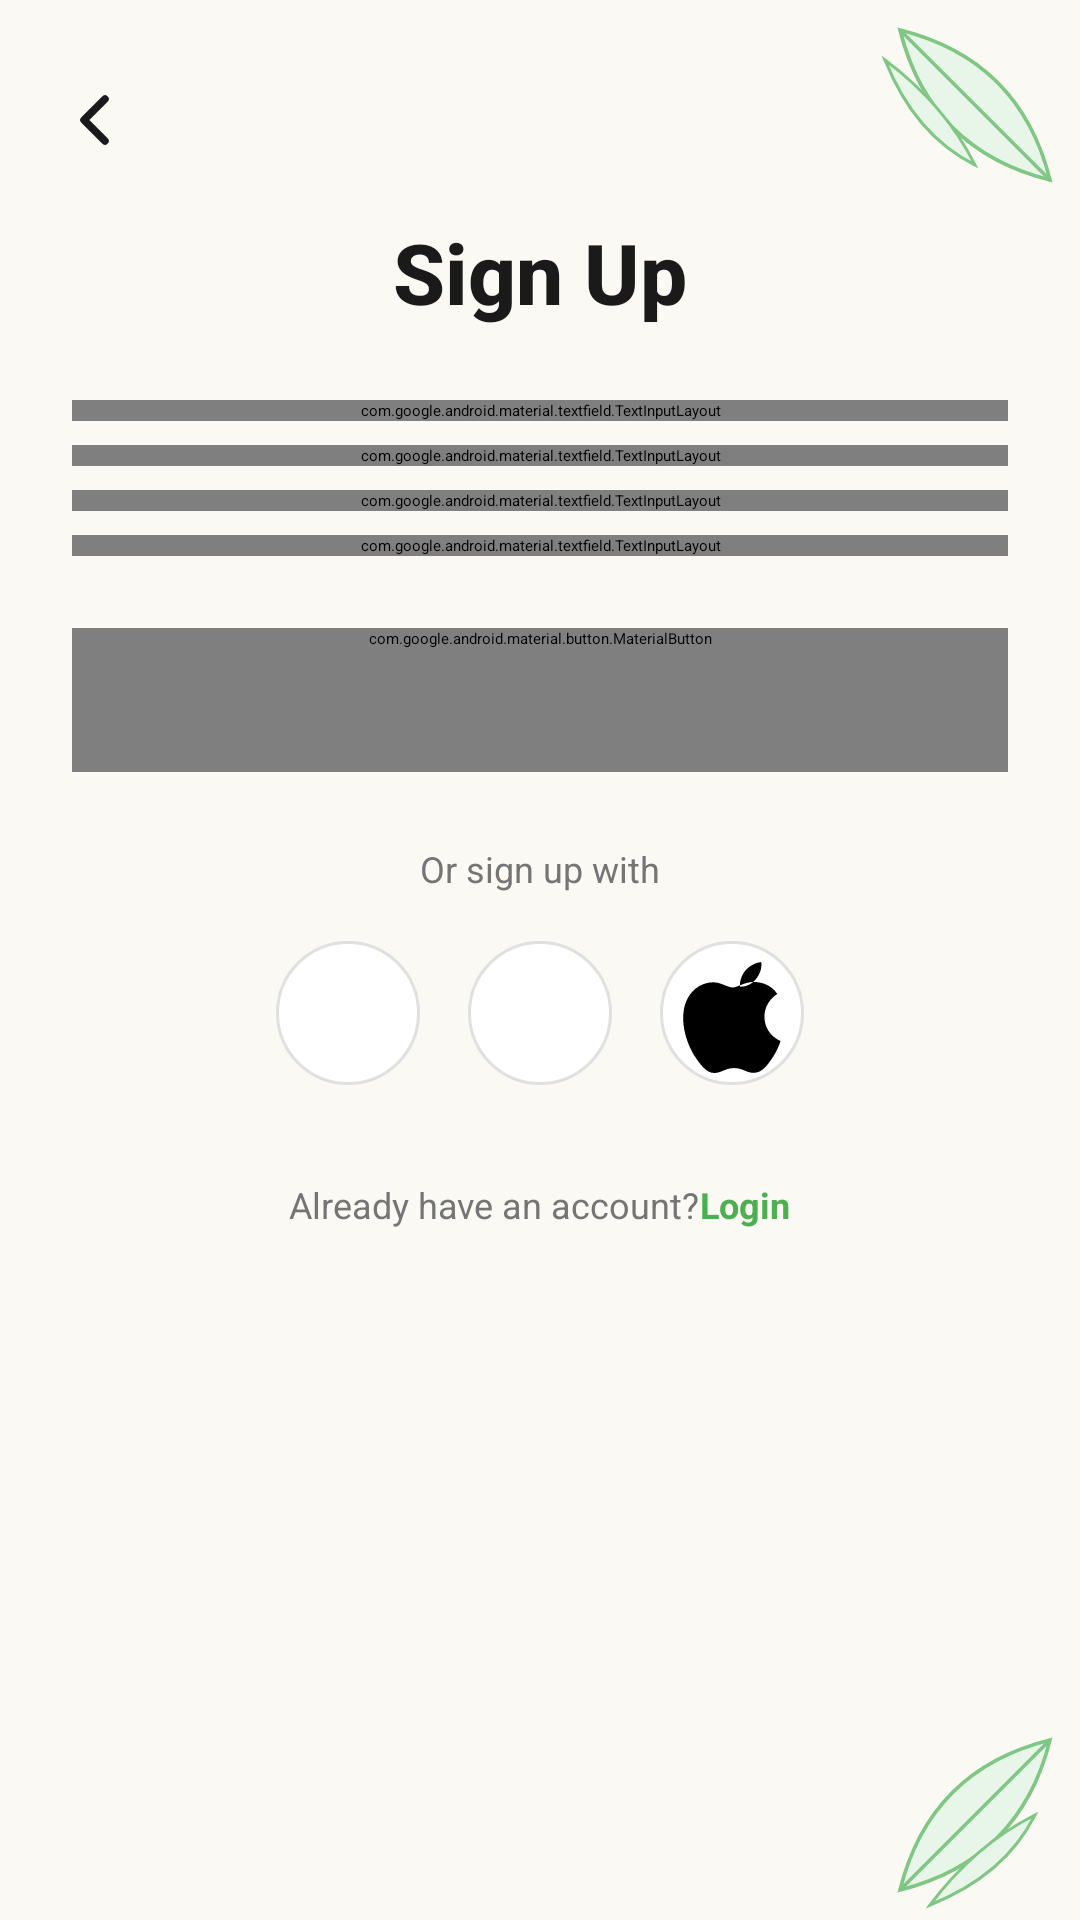

Where to tap for icons on this 1080×1920 app screen, as point (x, y):
Go back: point (94, 120)
